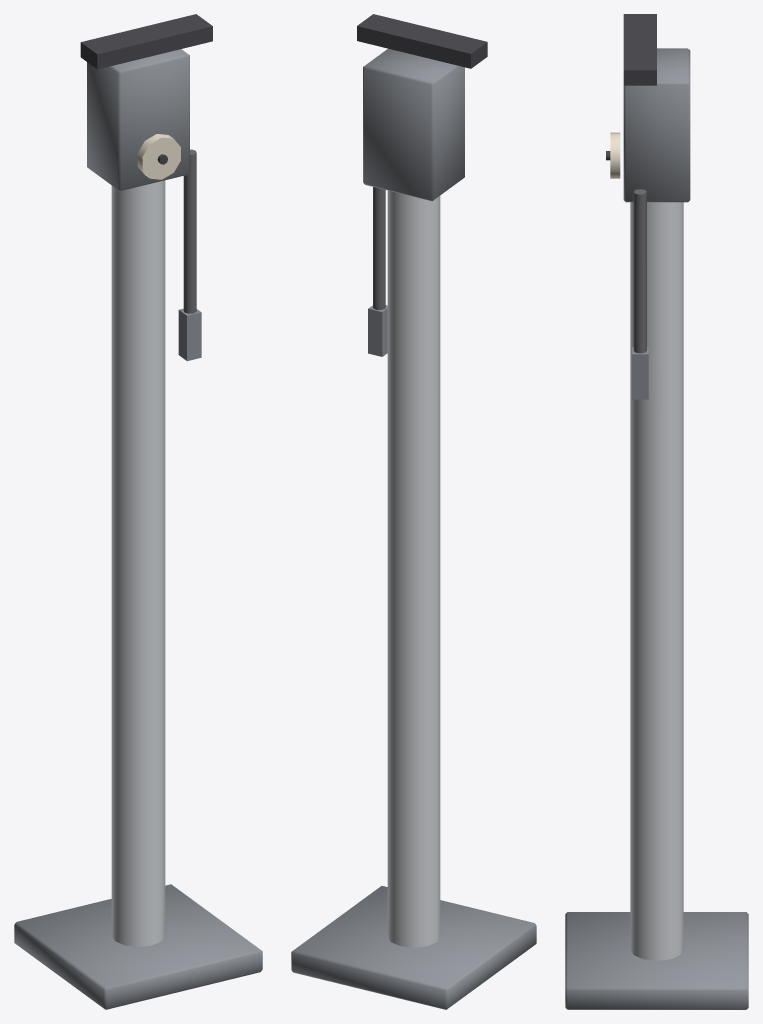
The model's file is BikePump_Public.fbx.
3 renders of one model, left to right at view 1: azimuth 30°, elevation 25°; view 2: azimuth 150°, elevation 25°; view 3: azimuth 270°, elevation 25°, orthographic.
Visible parts, largest first — view 1: LOD0; view 2: LOD0; view 3: LOD0.
Boxes of the visible parts, bbox=[...] form: LOD0: bbox=[14, 14, 262, 1009]; LOD0: bbox=[291, 14, 536, 1009]; LOD0: bbox=[565, 14, 748, 1009].
Size of what is drawn, in the model's own units: 22 by 123 by 22.
